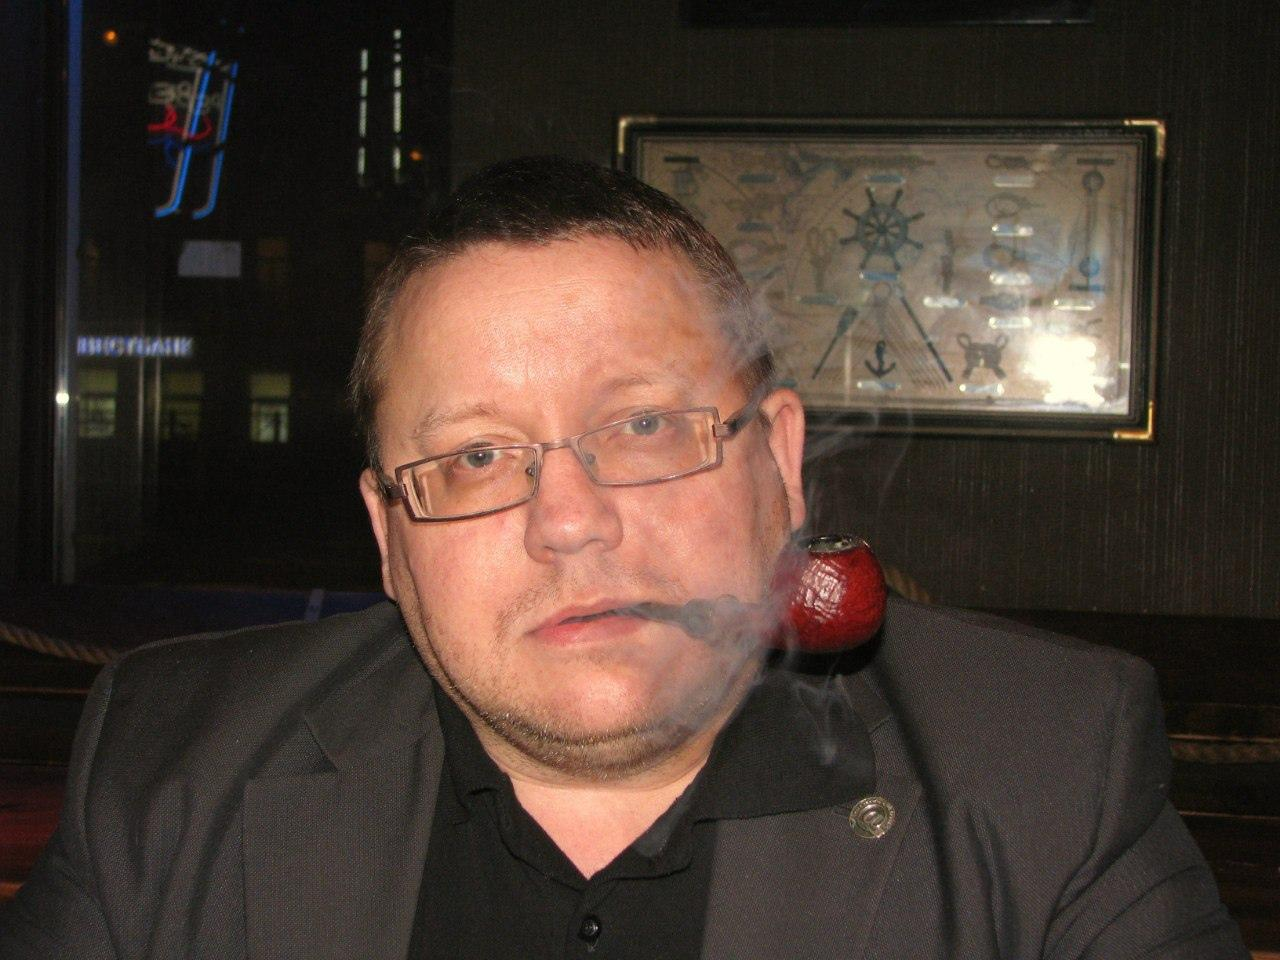trubka: (607, 536, 886, 654)
